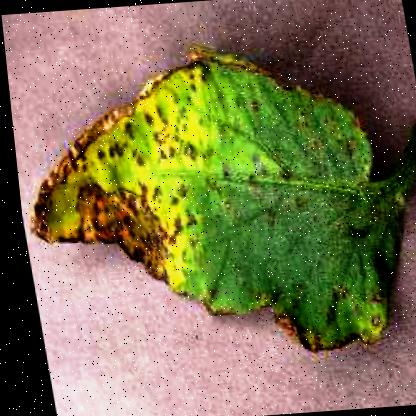BACTERIAL SPOT: (1, 23, 415, 385)
